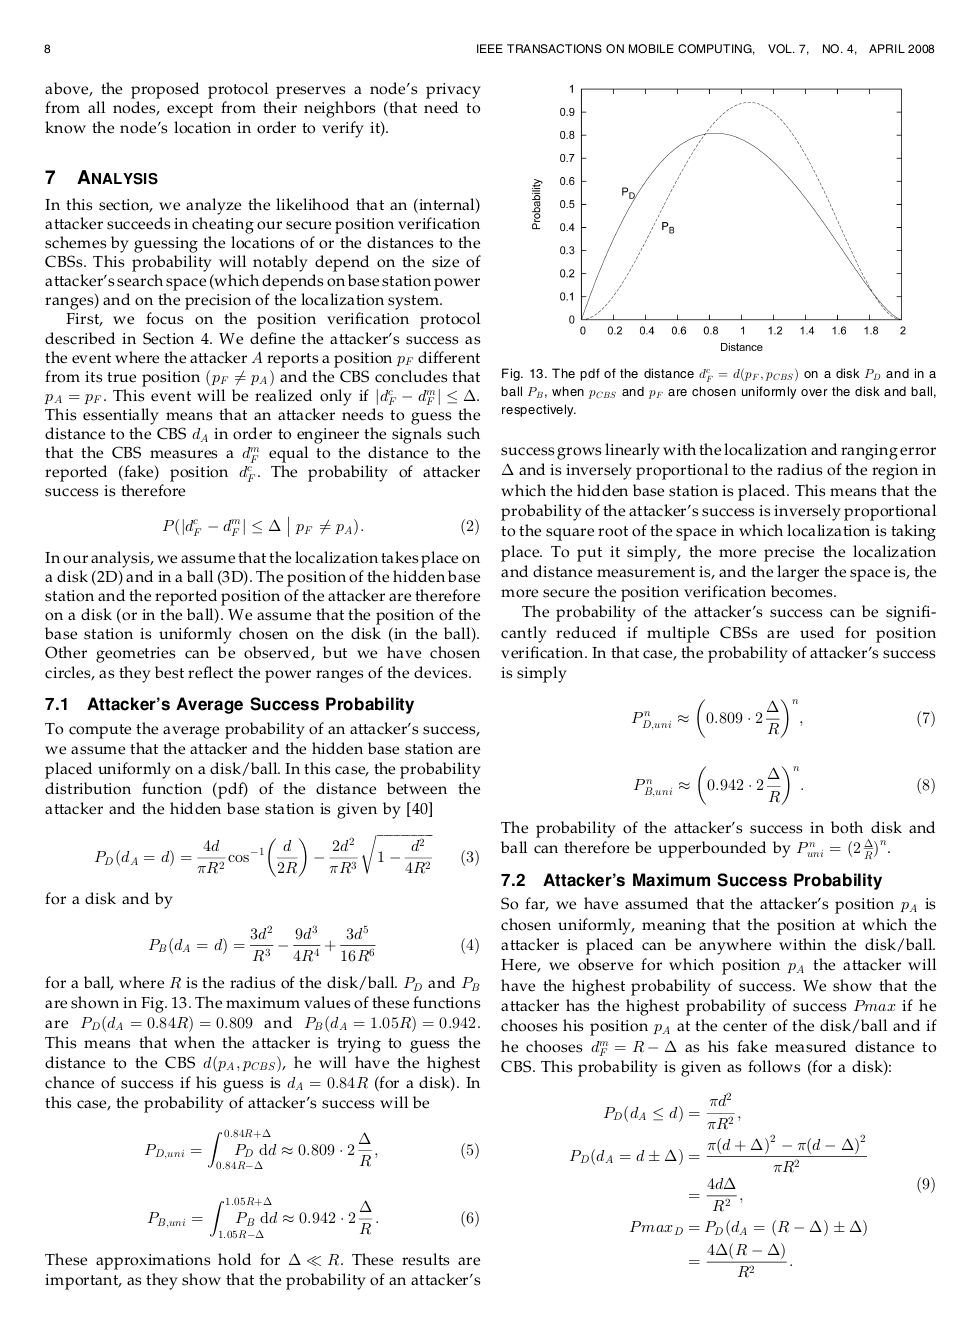figure: (532, 84, 905, 350)
formula: (94, 834, 478, 876), (147, 1195, 478, 1238), (144, 1128, 478, 1170), (148, 924, 478, 962), (569, 1132, 866, 1173), (631, 698, 934, 737), (633, 766, 934, 805), (689, 1175, 934, 1212), (162, 514, 478, 537), (603, 1091, 740, 1130), (630, 1219, 866, 1236), (689, 1242, 791, 1278)
